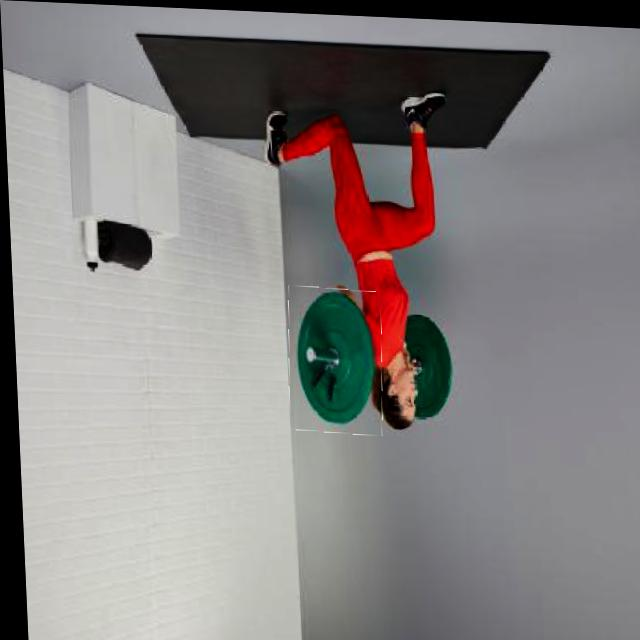barbell: (283, 284, 383, 432)
